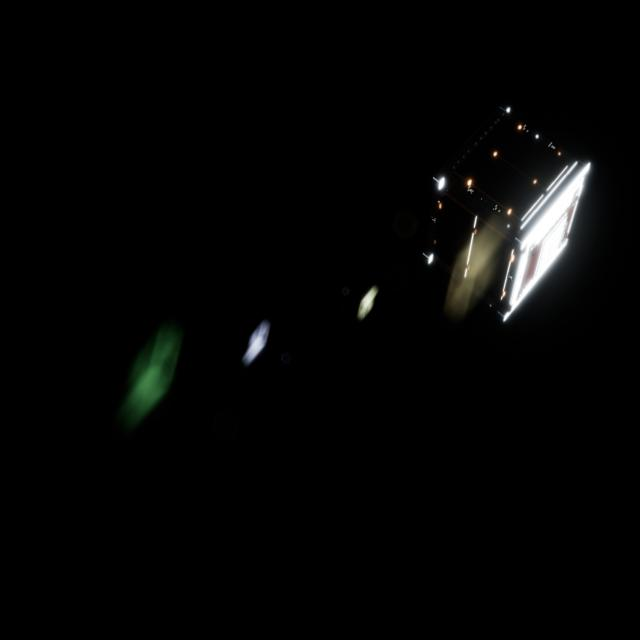satellite: (427, 105, 598, 322)
